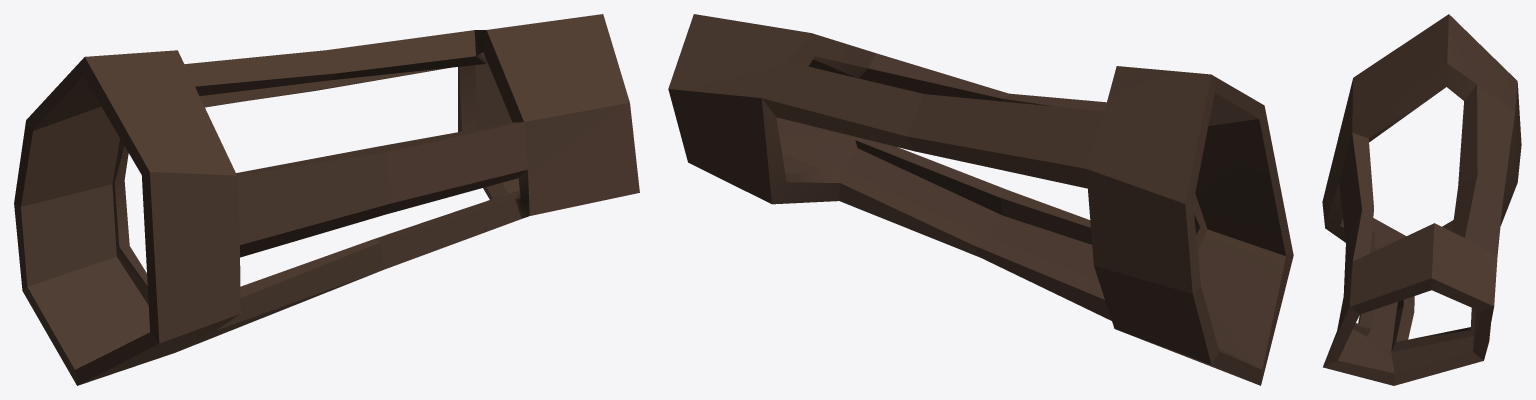
Rendered from Chr_ArmLowerLeft_Female_09_Drop.fbx.
3 renders of one model, left to right at view 1: azimuth 30°, elevation 25°; view 2: azimuth 150°, elevation 25°; view 3: azimuth 270°, elevation 25°, orthographic. The views are drawn at different scales.
Visible parts, largest first — view 1: Chr_ArmLowerLeft_Female_09_Static; view 2: Chr_ArmLowerLeft_Female_09_Static; view 3: Chr_ArmLowerLeft_Female_09_Static.
Boxes of the visible parts, left/top/right/bottom form: Chr_ArmLowerLeft_Female_09_Static: left=14, top=14, right=639, bottom=385; Chr_ArmLowerLeft_Female_09_Static: left=668, top=14, right=1293, bottom=385; Chr_ArmLowerLeft_Female_09_Static: left=1322, top=14, right=1521, bottom=385.
Bounding box in the file's own units: 23.54 × 12.8 × 9.14.
